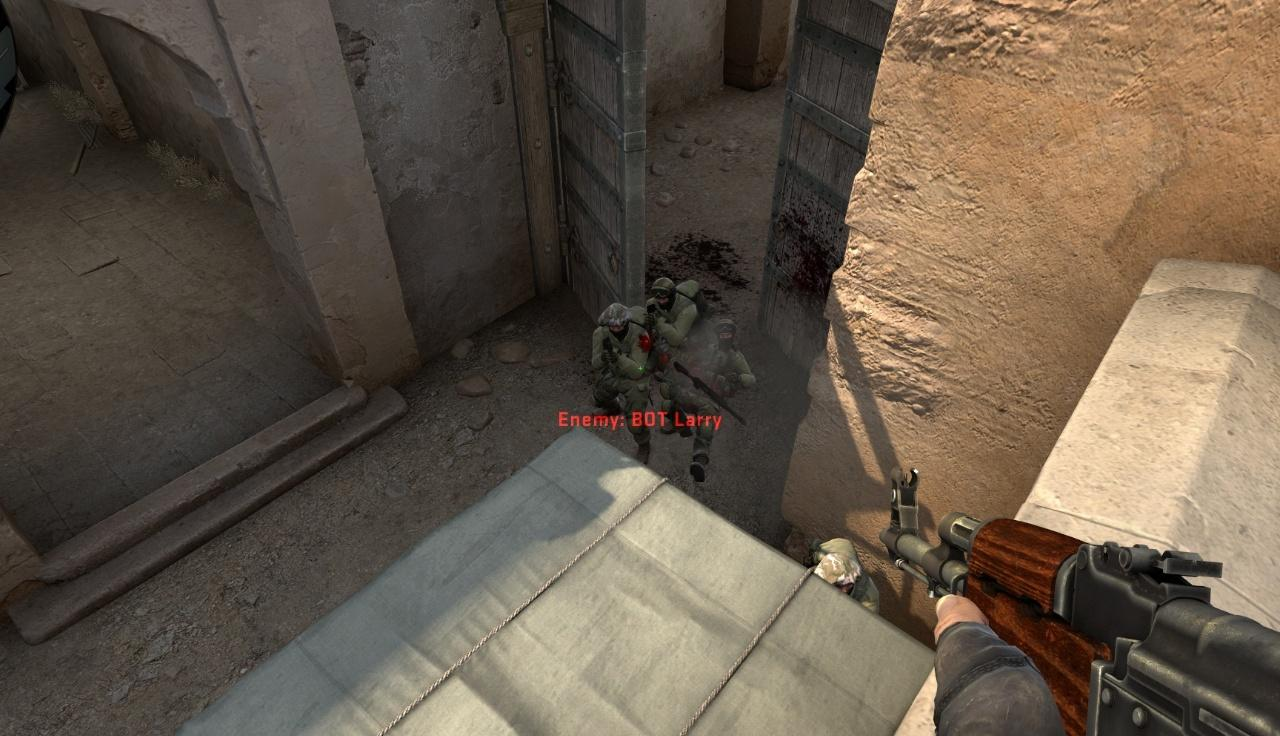ct: (591, 303, 652, 461), (647, 277, 703, 428), (802, 537, 881, 622)
cthead: (817, 554, 855, 596), (607, 306, 629, 339), (652, 279, 675, 309)
rifle: (881, 465, 1280, 736)
